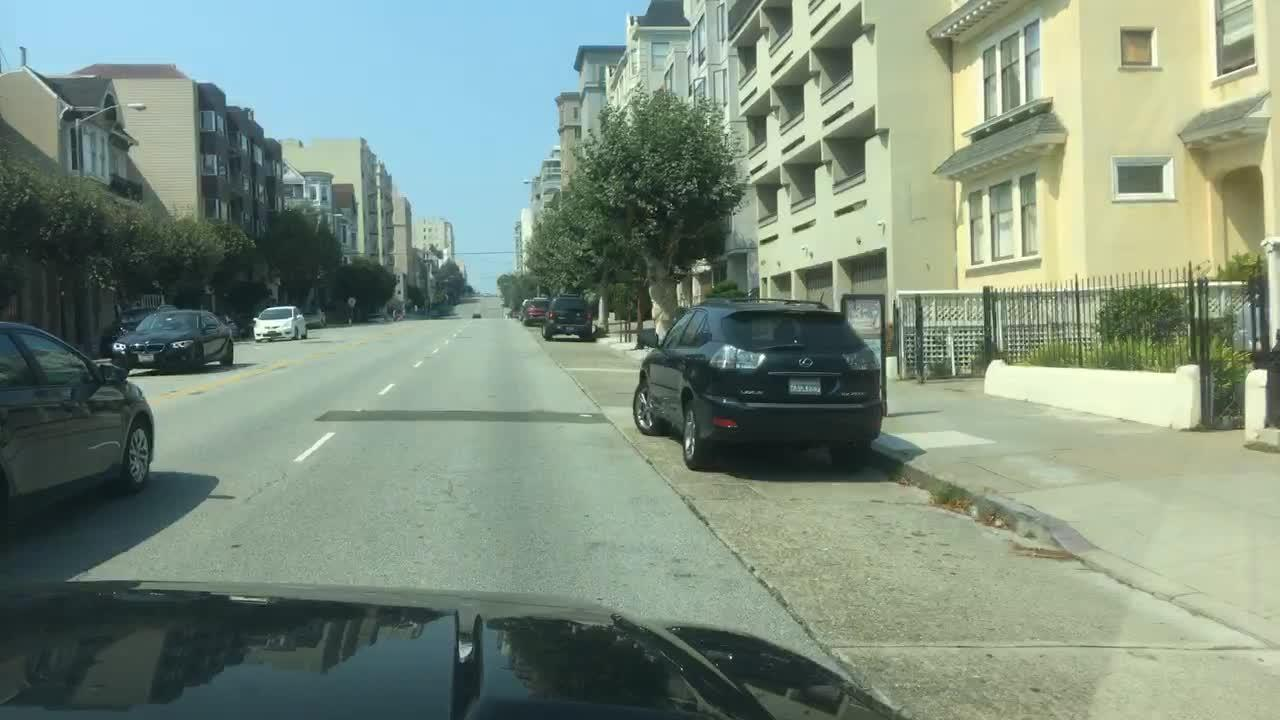lexus: (792, 350, 823, 378)
